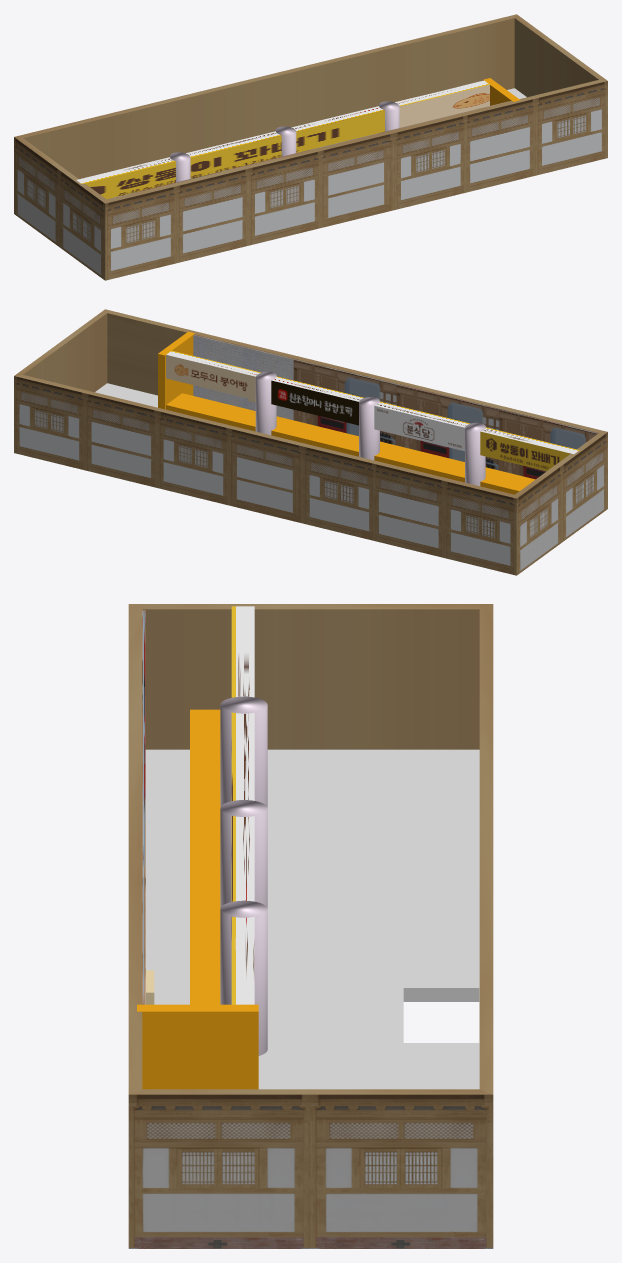
The model's file is interior2F 1.fbx.
The picture shows the model from 3 angles, top to bottom: view 1: azimuth 30°, elevation 25°; view 2: azimuth 150°, elevation 25°; view 3: azimuth 270°, elevation 25°; orthographic projection. The views are drawn at different scales.
Visible parts, largest first — view 1: 2F, Cube, Cylinder.001, Cube.002, Cylinder.002, Cylinder.003, Cube.003; view 2: 2F, Cube.003, Cube, Cube.001, Cube.002, Cylinder.003, Cylinder.002, Cylinder.001; view 3: 2F, Cube.002, Cube.001, Cube, Cylinder.003, Cylinder.002, Cylinder.001, Cube.003.
Boxes of the visible parts, <box> form: 2F: <box>14,14,607,280</box>; Cube: <box>76,80,489,199</box>; Cylinder.001: <box>275,126,296,156</box>; Cube.002: <box>483,78,520,105</box>; Cylinder.002: <box>169,152,190,182</box>; Cylinder.003: <box>379,101,399,131</box>; Cube.003: <box>107,100,511,199</box>; 2F: <box>14,309,607,575</box>; Cube.003: <box>193,334,598,479</box>; Cube: <box>166,350,579,471</box>; Cube.001: <box>166,393,535,494</box>; Cube.002: <box>158,331,194,409</box>; Cylinder.003: <box>255,371,276,435</box>; Cylinder.002: <box>465,422,485,486</box>; Cylinder.001: <box>359,397,379,460</box>; 2F: <box>128,604,493,1248</box>; Cube.002: <box>137,1004,258,1089</box>; Cube.001: <box>190,709,220,1004</box>; Cube: <box>231,606,254,1004</box>; Cylinder.003: <box>220,900,267,1055</box>; Cylinder.002: <box>220,696,267,807</box>; Cylinder.001: <box>220,800,267,908</box>; Cube.003: <box>142,610,145,1004</box>.
Size of the model in its own units: 24808 by 3643 by 7794.
Materials: 10 (5 with a texture image).
